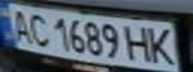1: (48, 15, 69, 52)
6: (63, 17, 87, 54)
8: (81, 19, 103, 56)
9: (100, 20, 124, 60)
A: (3, 7, 36, 44)
C: (24, 11, 54, 47)
H: (124, 22, 154, 63)
K: (145, 25, 178, 65)
